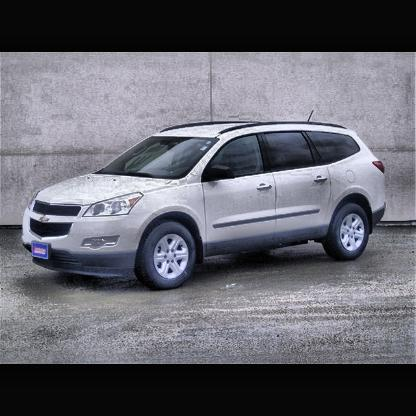Chevrolet Traverse SUV 2012: (20, 109, 391, 295)
